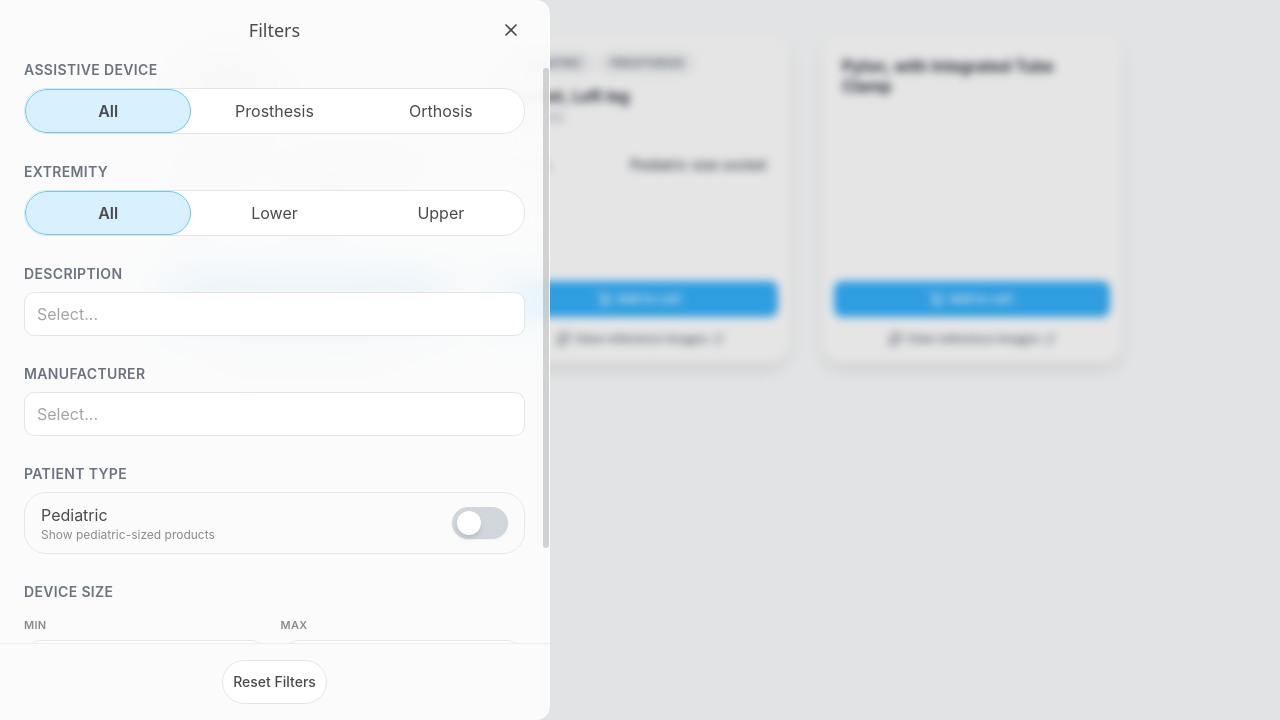
Scenario: Description filter → HomeLister inventory query › lists description options sourced from the inventory data
Expected: the text "Description" is shown, [24,265,122,282]
Click the dropdown with placeholder "Select..." below "Description": {"x": 274, "y": 314} [37,302,512,326]
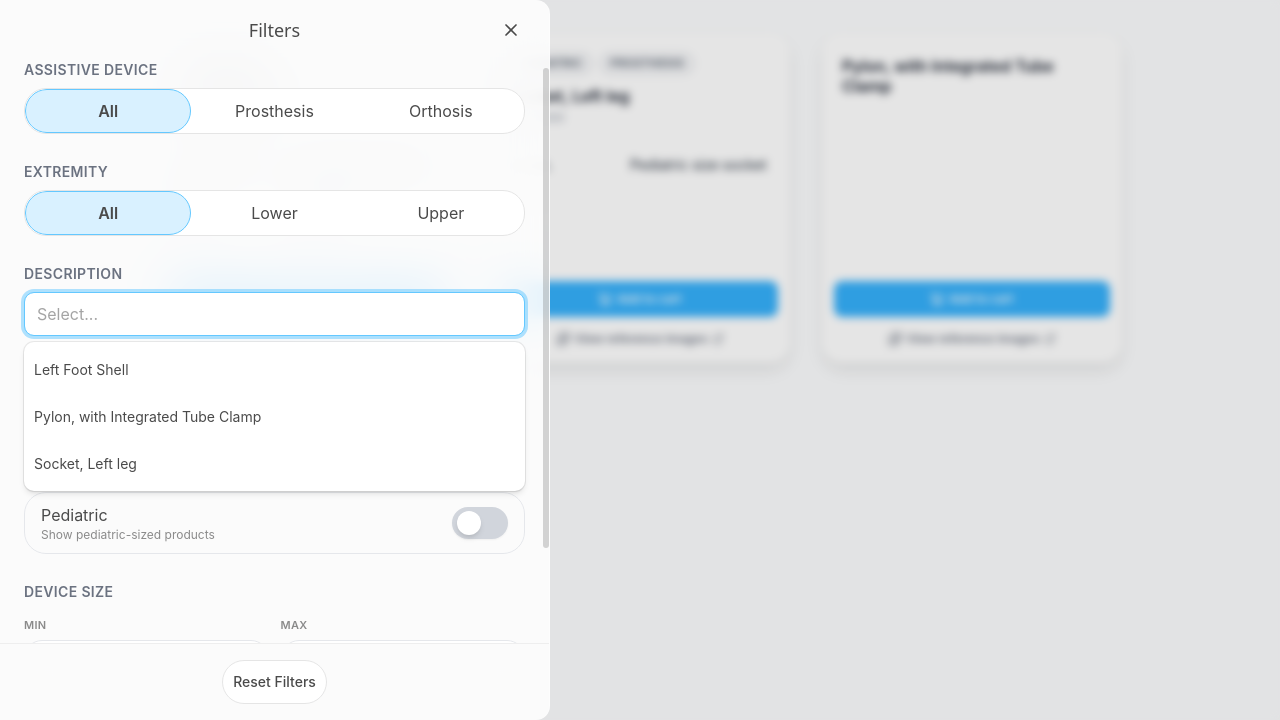
Now the option "Left Foot Shell" is shown, box [34,360,128,378]
Now the option "Pylon, with Integrated Tube Clamp" is shown, box [34,408,261,424]
Now the option "Socket, Left leg" is shown, box [34,454,137,472]
